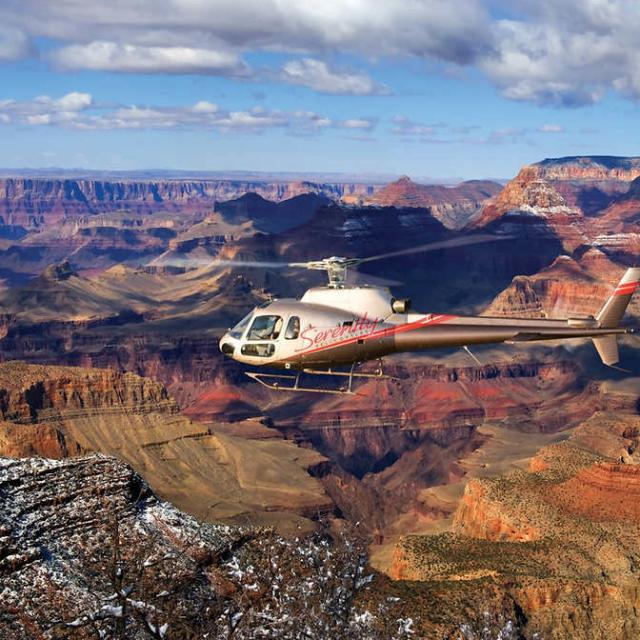helicopter: (166, 235, 640, 403)
